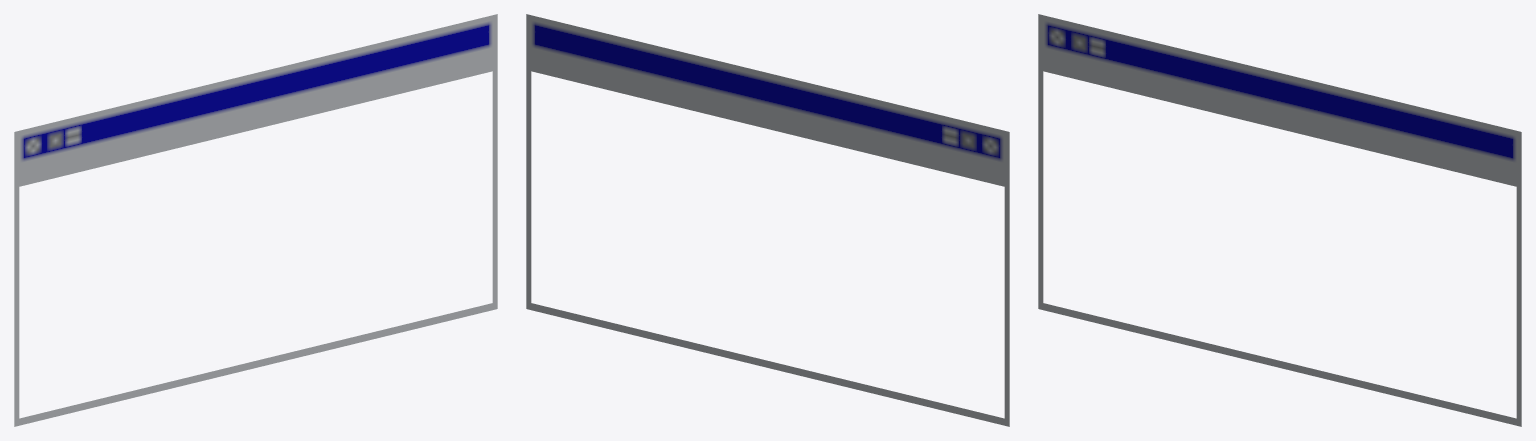
Rendered from window.fbx.
3 views of the same model, side by side, from view 1: azimuth 30°, elevation 25°; view 2: azimuth 150°, elevation 25°; view 3: azimuth 330°, elevation 25° (orthographic).
Parts seen in each view (by area): view 1: Cube; view 2: Cube; view 3: Cube.
Boxes of the visible parts, box(x1,y1,x2,y2) form: Cube: box(14, 14, 497, 426); Cube: box(526, 14, 1009, 426); Cube: box(1038, 14, 1521, 426).
Bounding box in the file's own units: 687 × 400 × 6.52e-05.
